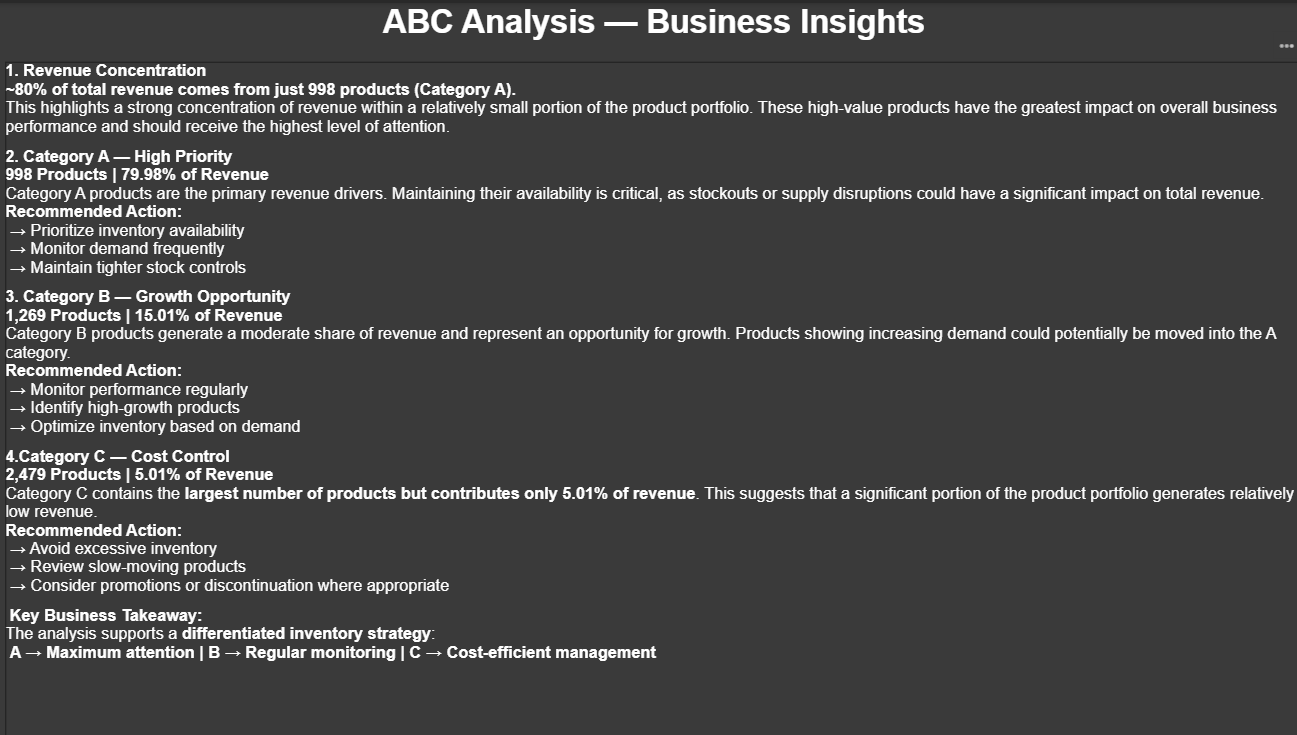

The page's visual inventory and layout, read from the dashboard file:
{"tool":"powerbi","page":{"name":"Insights","canvas":[1920,1080],"ordinal":1},"visuals":[{"type":"textbox","box":[9.2,0,1910.4,99.4],"z":0},{"type":"textbox","box":[9.2,747.2,951.5,66.3],"z":4},{"type":"textbox","box":[9.2,86.5,1910.4,993.9],"z":5}]}

Visuals, with their boxes in screenshot pixels (x1, y1, x2, y2), scaled from the page's 1920x1080 canvas onto the 1297x735 screenshot:
textbox: [left=6, top=0, right=1296, bottom=68]
textbox: [left=6, top=509, right=649, bottom=554]
textbox: [left=6, top=59, right=1296, bottom=734]
